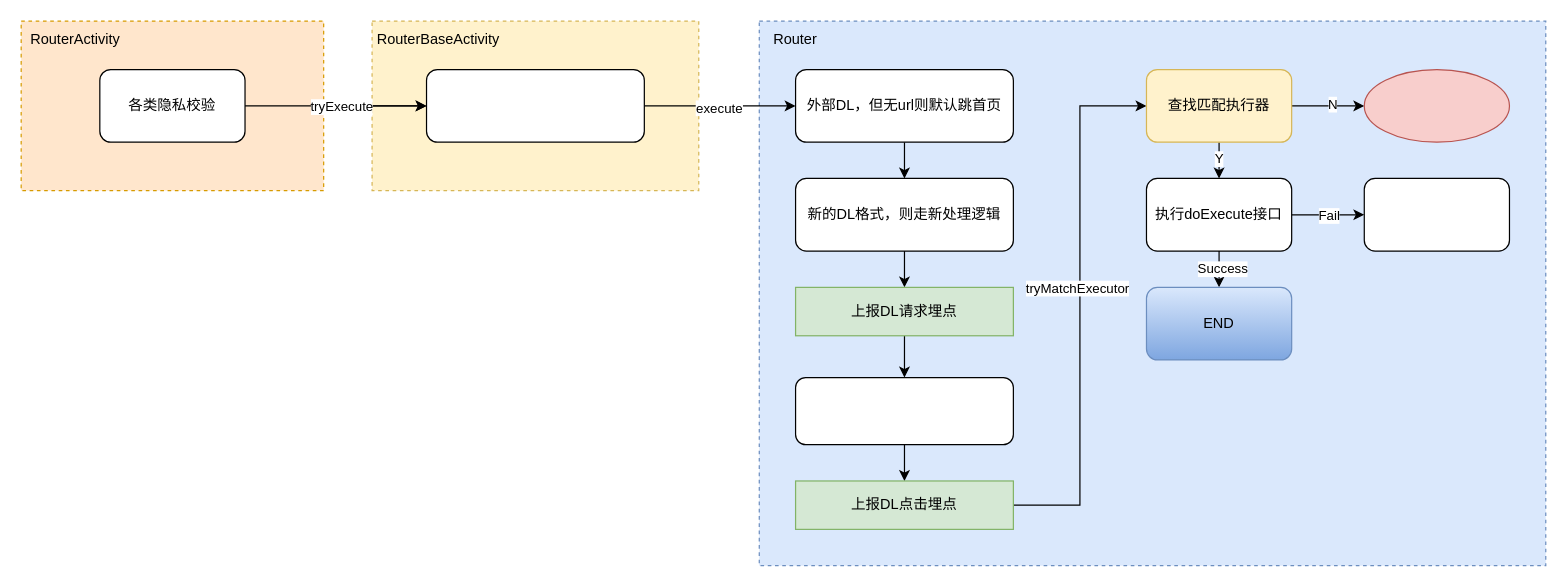
The diagram is 1567 pixels wide and 587 high, and some of its shapes have lost their labels. Here are the shapes that lost their labels. From the top down, the centre of each, then its label:
At pixel 534 105: "上报特定功能的DeepLink埋点 （如：预览）".
At pixel 1436 105: "上报查找失败信息".
At pixel 1436 214: "端外执行失败则默认跳转首页".
At pixel 903 410: "DL的path为空，则默认跳首页".
